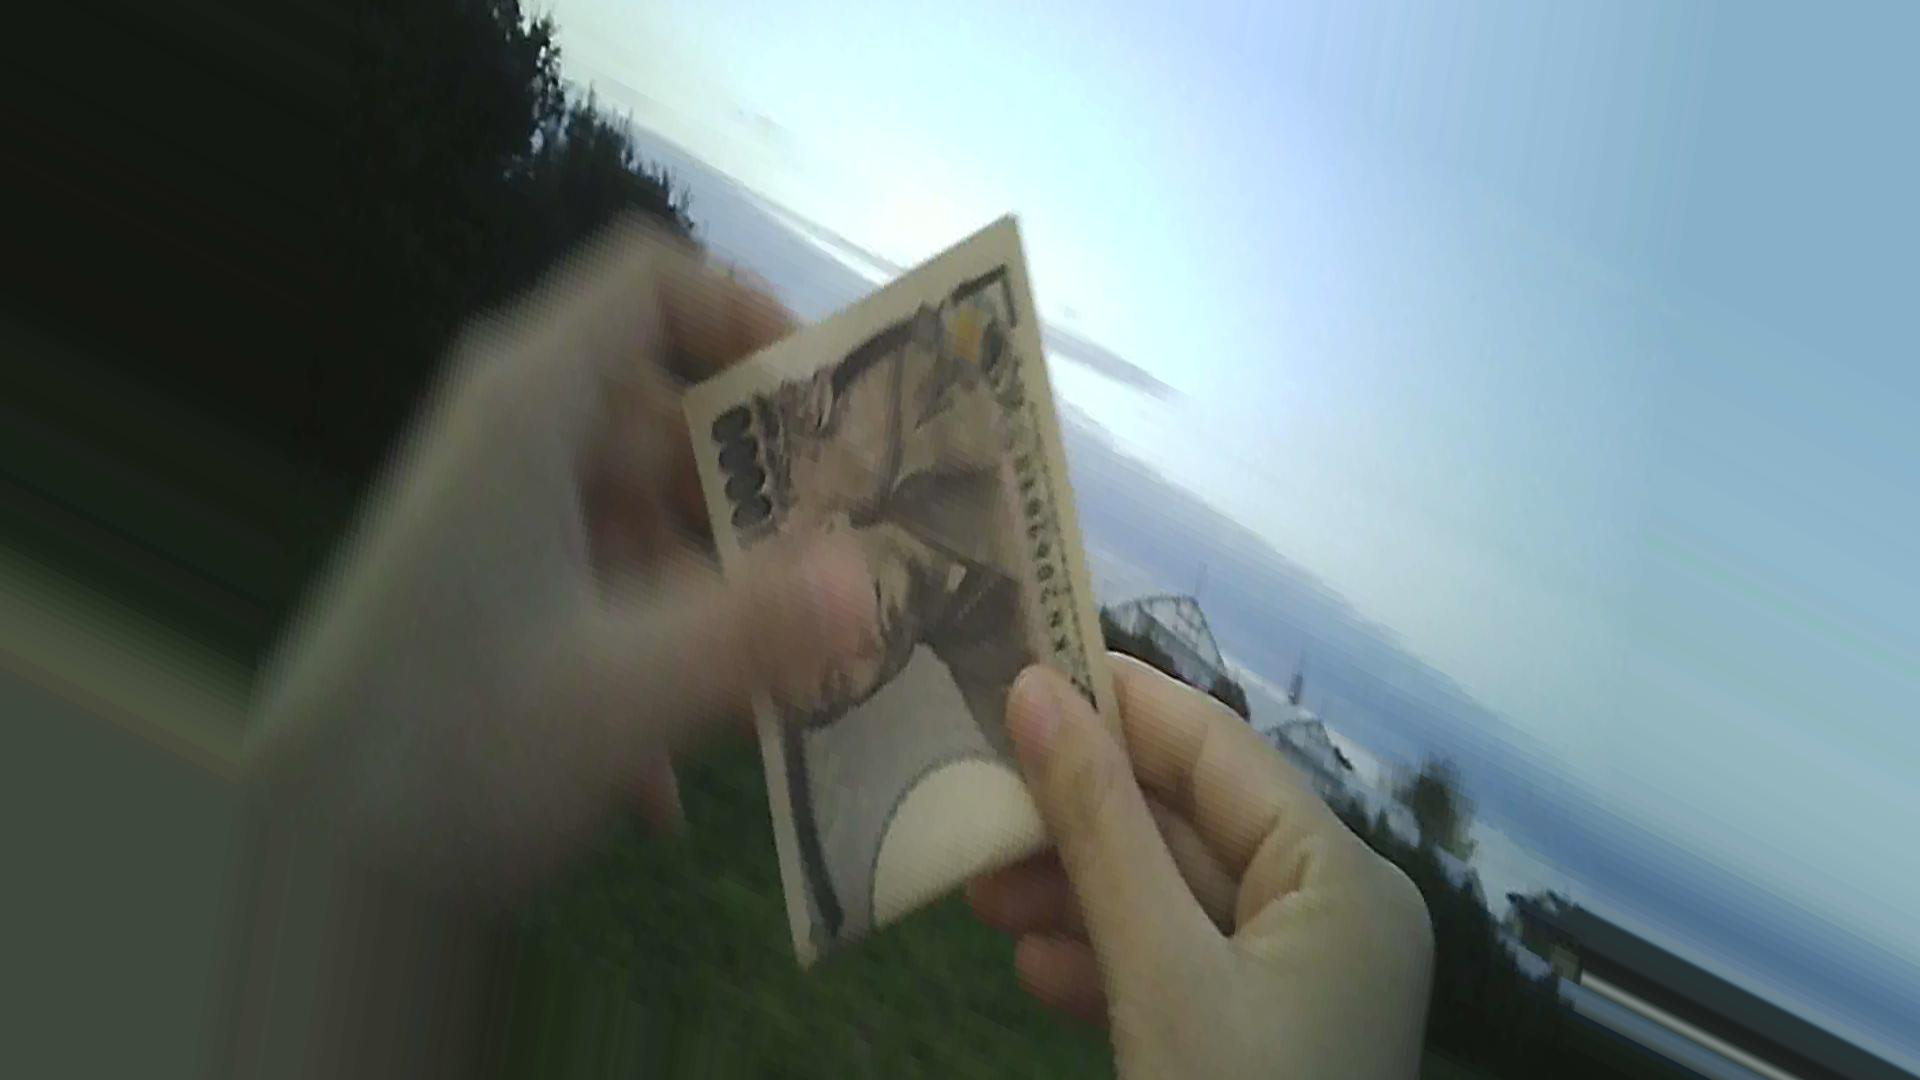10,000 Yen: (684, 245, 1125, 945)
